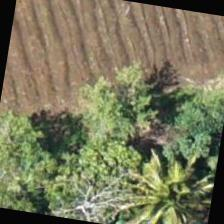Kelapa_Sawit: (117, 145, 218, 223)
